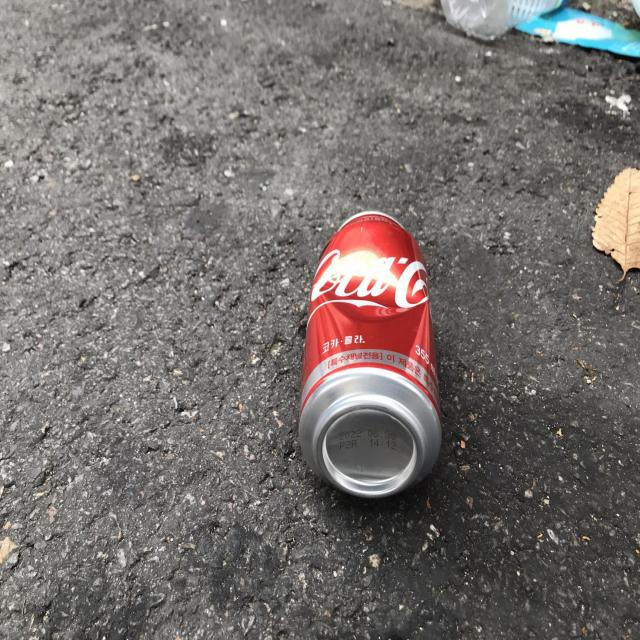can: (299, 211, 442, 498)
